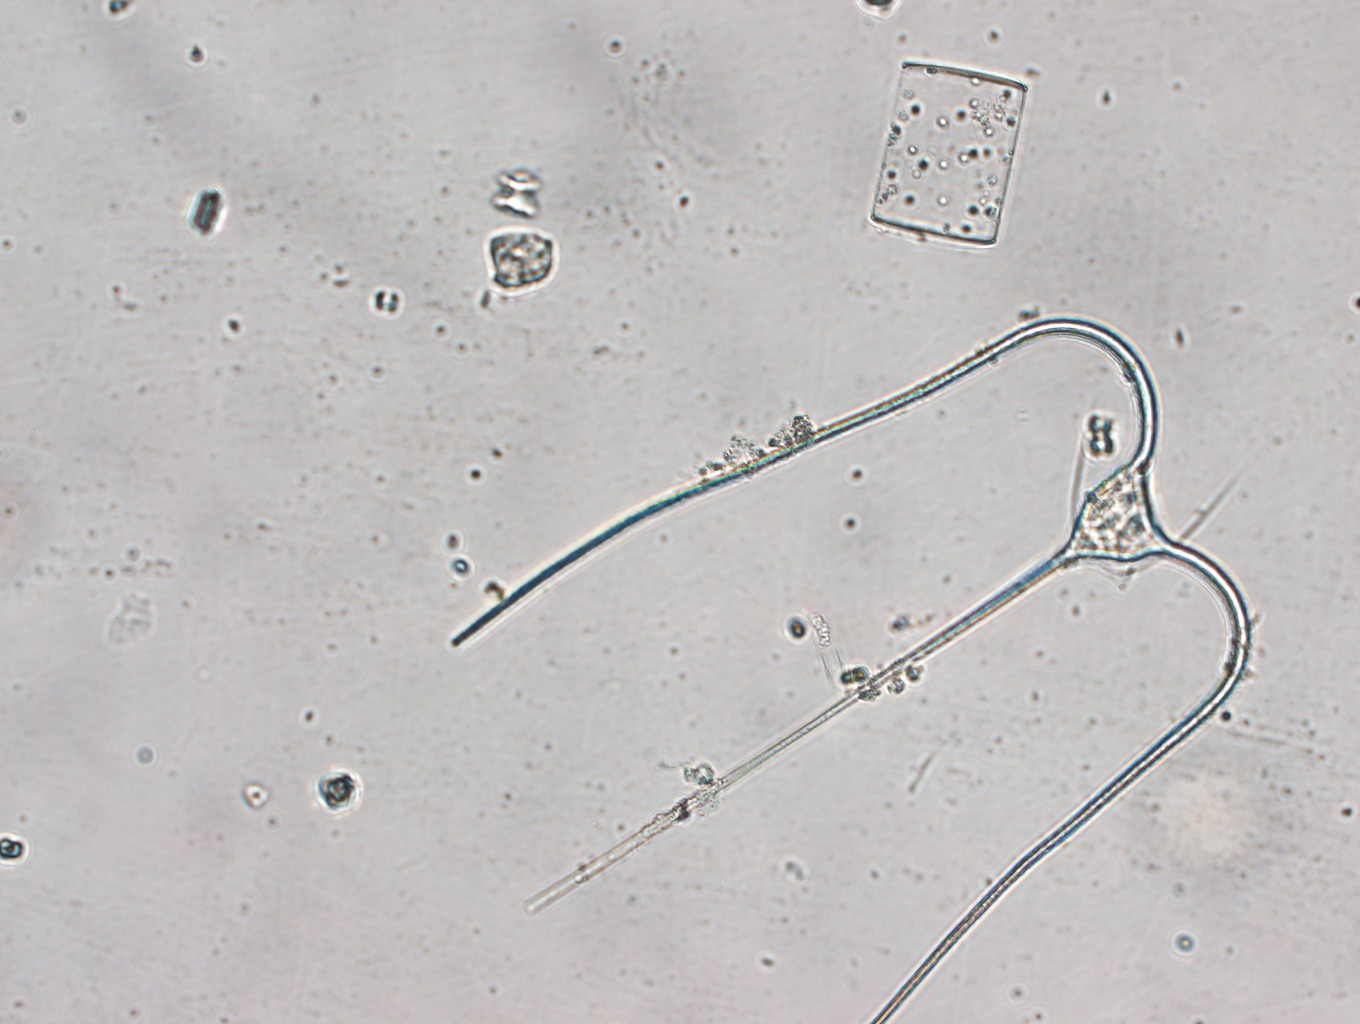ceratium trichoceros: (435, 302, 1263, 1022)
guinardia flaccida: (863, 55, 1030, 261)
